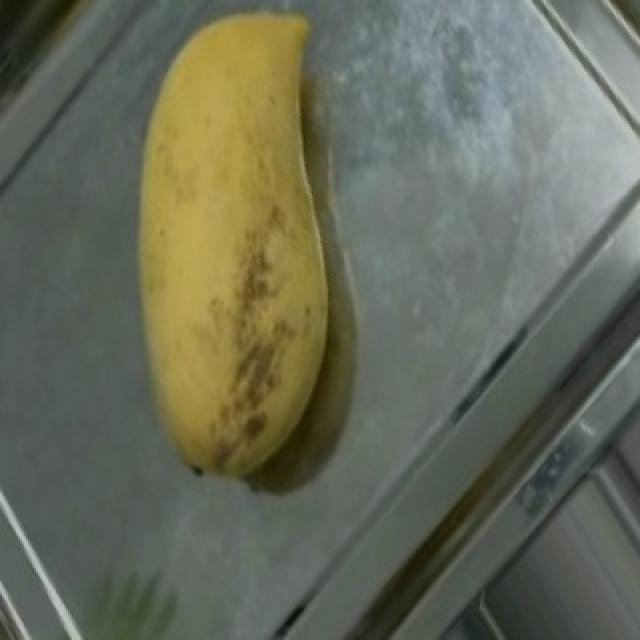fruit: (124, 0, 420, 451)
